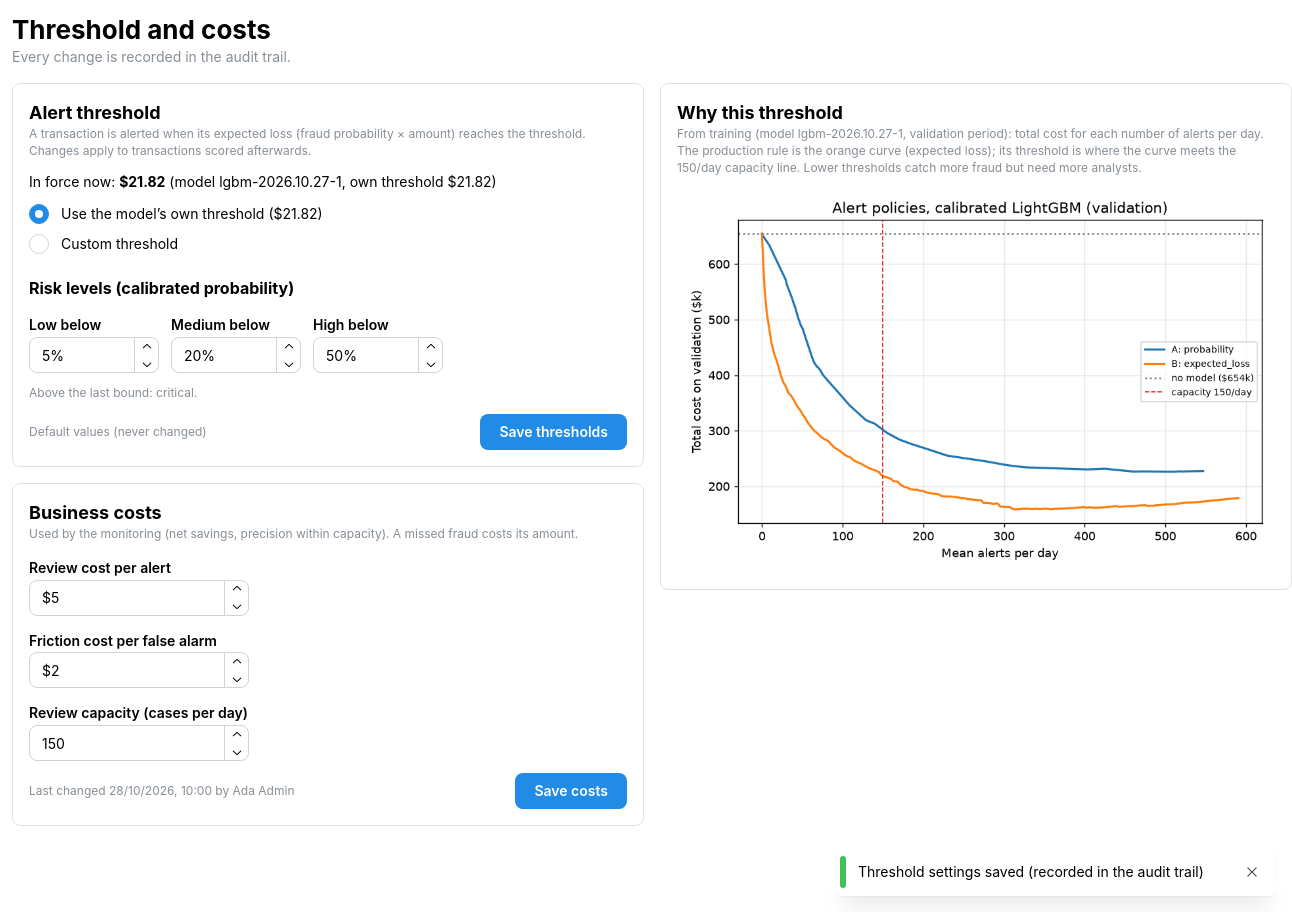
Test: SettingsPage › blocks saving invalid bands
The width and height of the screenshot is (1292, 912).
Replace the text in the field labelled "Medium below" with "3" at (236, 355), box [171, 337, 301, 373]
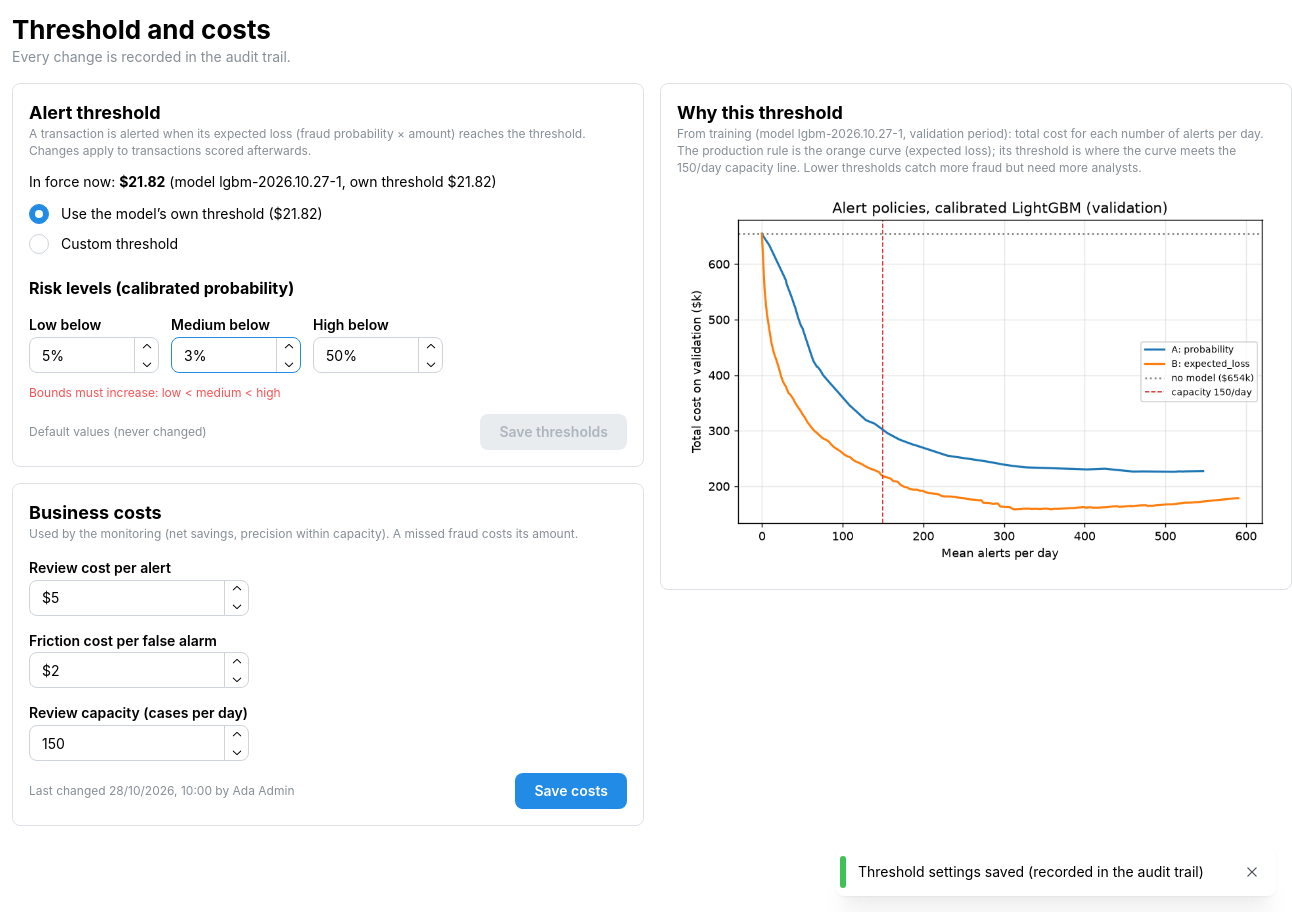
Check: the button "Save thresholds" is disabled, box [480, 414, 627, 450]
Check: the text "Bounds must increase: low < medium < high" is shown, box [29, 385, 281, 400]
